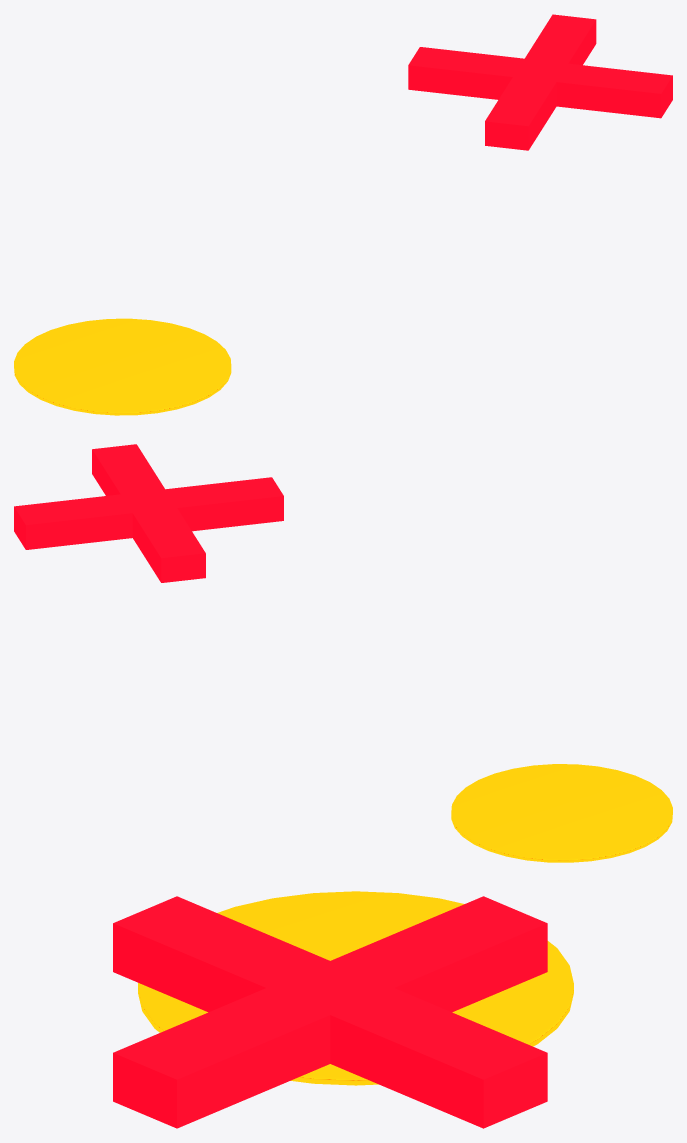
Rendered from !cross_dot(1).fbx.
The picture shows the model from 3 angles, top to bottom: view 1: azimuth 30°, elevation 25°; view 2: azimuth 150°, elevation 25°; view 3: azimuth 270°, elevation 25°; orthographic projection. The views are drawn at different scales.
Parts seen in each view (by area): view 1: dot, cross; view 2: dot, cross; view 3: cross, dot.
Part boxes in pixels (x1,y1,x2,y2): dot: [14, 318, 231, 415]; cross: [408, 14, 672, 150]; dot: [451, 764, 672, 862]; cross: [14, 444, 283, 582]; cross: [113, 896, 547, 1128]; dot: [138, 891, 573, 1085].
Size of the model in its own units: 313 by 104 by 101.
